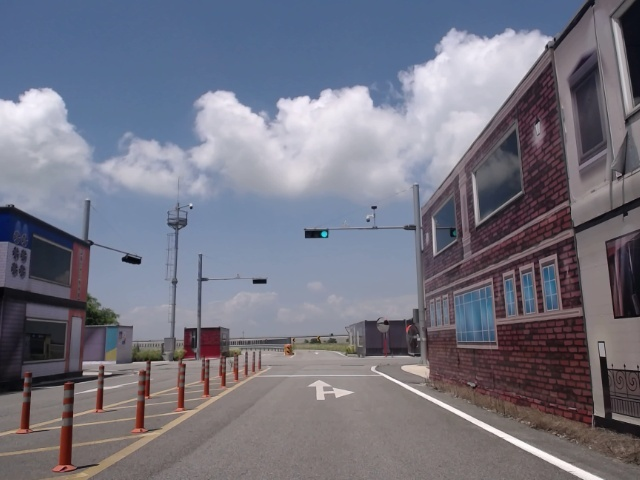green_3: (304, 230, 327, 237)
